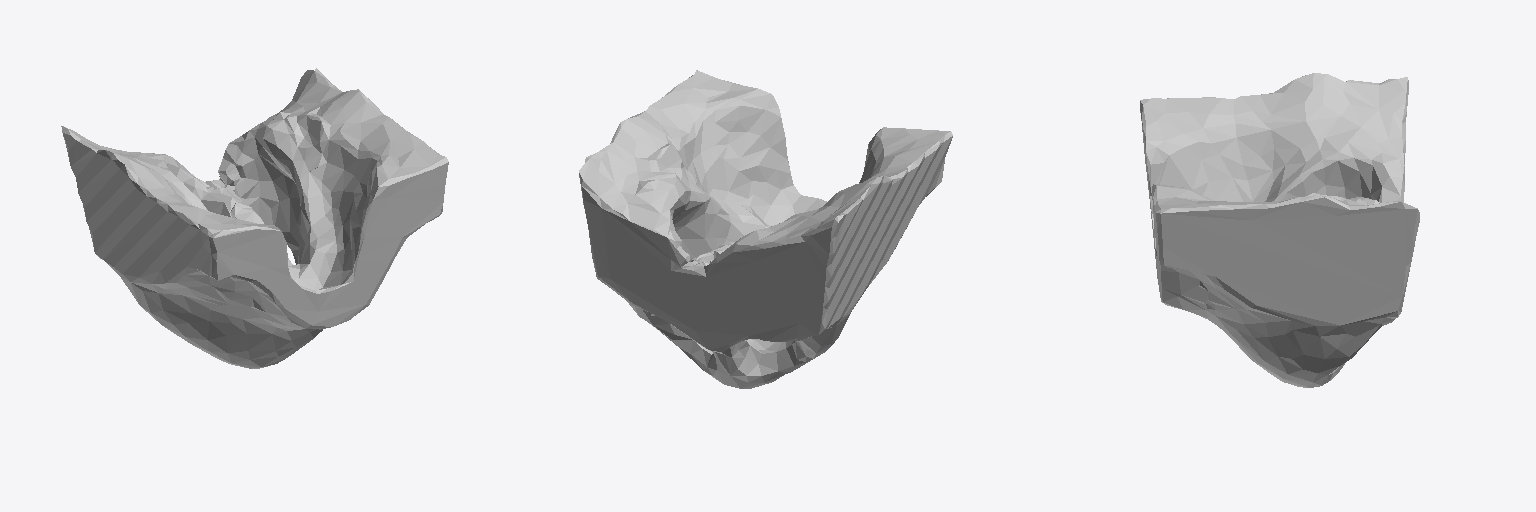
Rendered from body_Nose.OBJ.
3 views of the same model, side by side, from view 1: azimuth 30°, elevation 25°; view 2: azimuth 150°, elevation 25°; view 3: azimuth 270°, elevation 25° (orthographic).
Visible parts, largest first — view 1: body_Nose; view 2: body_Nose; view 3: body_Nose.
Boxes of the visible parts, x1,y1,x2,y2 form: body_Nose: [61, 68, 448, 368]; body_Nose: [579, 70, 952, 388]; body_Nose: [1140, 73, 1419, 387].
Bounding box in the file's own units: 52.51 × 46.18 × 48.39.